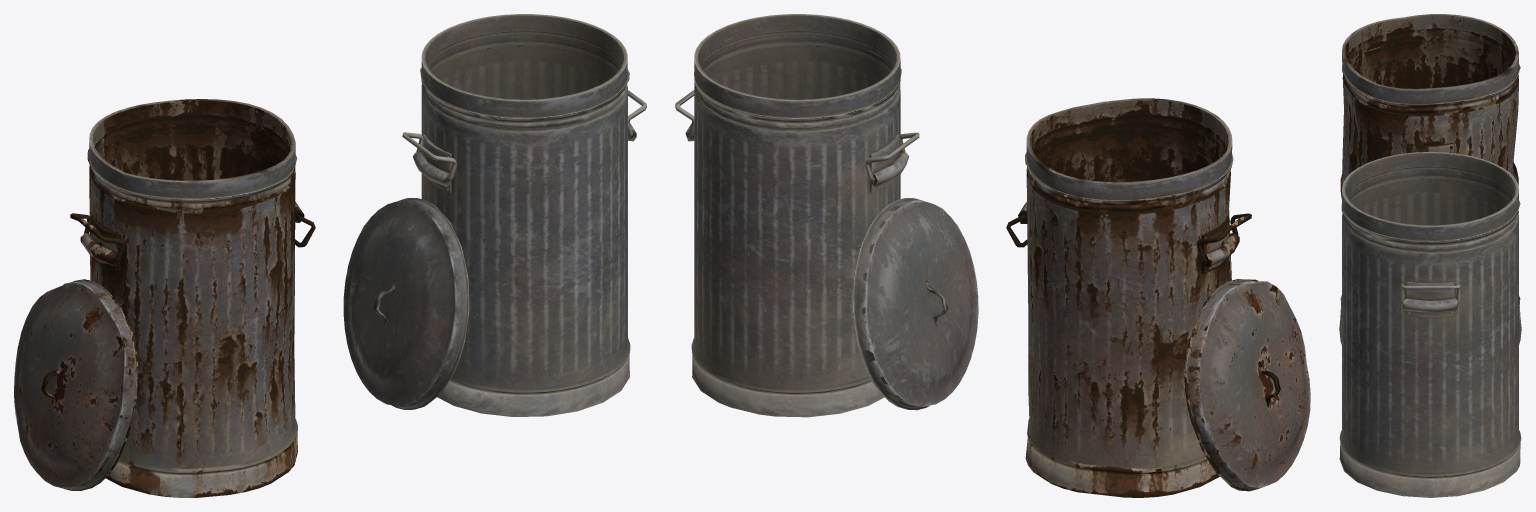
The model's file is metal_trash_can.gltf.
3 views of the same model, side by side, from view 1: azimuth 30°, elevation 25°; view 2: azimuth 150°, elevation 25°; view 3: azimuth 270°, elevation 25° (orthographic). The views are drawn at different scales.
Visible parts, largest first — view 1: metal_trash_can, metal_trash_can_rust, metal_trash_can_lid, metal_trash_can_rust_lid; view 2: metal_trash_can, metal_trash_can_rust, metal_trash_can_lid, metal_trash_can_rust_lid; view 3: metal_trash_can, metal_trash_can_rust, metal_trash_can_handle_right.
Boxes of the visible parts, x1,y1,x2,y2 form: metal_trash_can: (413,14,636,416); metal_trash_can_rust: (80,99,304,497); metal_trash_can_lid: (343,198,469,409); metal_trash_can_rust_lid: (14,279,137,490); metal_trash_can: (685,14,909,417); metal_trash_can_rust: (1018,98,1239,497); metal_trash_can_lid: (852,198,978,410); metal_trash_can_rust_lid: (1184,279,1310,491); metal_trash_can: (1339,152,1521,497); metal_trash_can_rust: (1340,14,1520,317); metal_trash_can_handle_right: (1400,284,1460,303).
Bounding box in the file's own units: 1.78 × 0.9062 × 0.5543.
3 materials, 3 textured.
